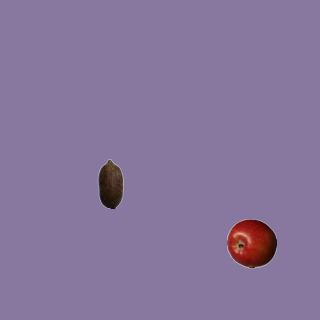Apple Braeburn: (226, 218, 276, 268)
Nut Pecan: (85, 158, 135, 208)
